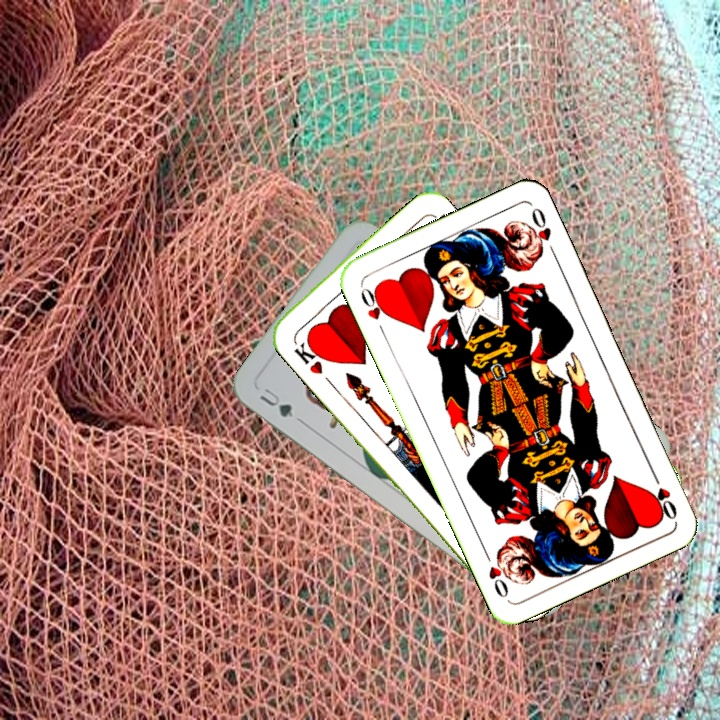GU: (255, 384, 296, 420)
HK: (290, 334, 330, 377)
HO: (356, 282, 391, 337), (647, 467, 680, 523)
